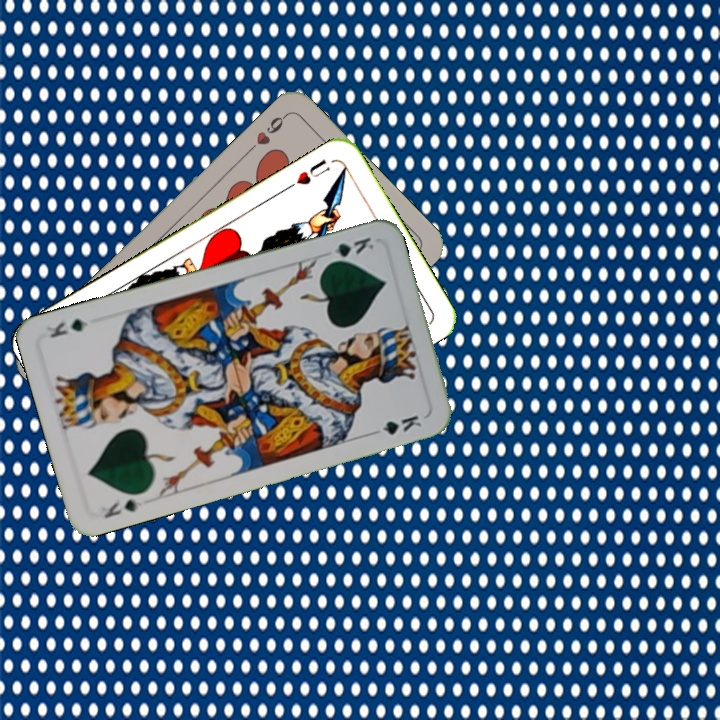GK: (322, 233, 377, 267), (100, 495, 145, 521)
H9: (243, 110, 290, 155)
HU: (283, 154, 333, 192)
